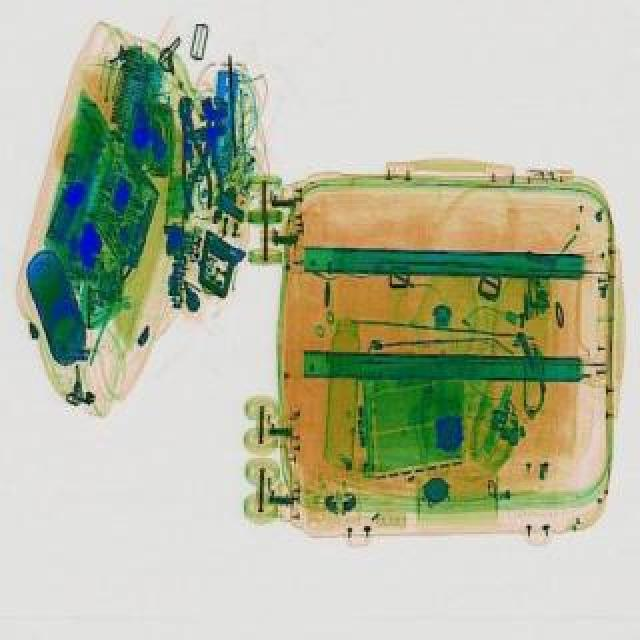wrench: (164, 98, 220, 218), (184, 124, 236, 226)
